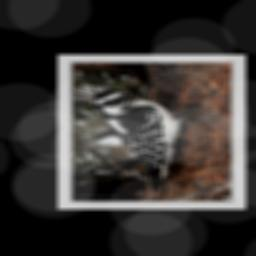Woodpecker: (90, 89, 199, 195)
